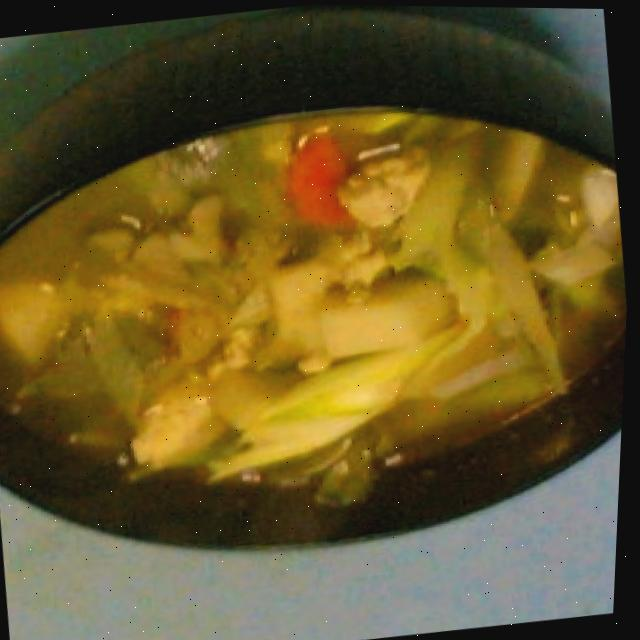蔬菜料理: (0, 64, 638, 596)
